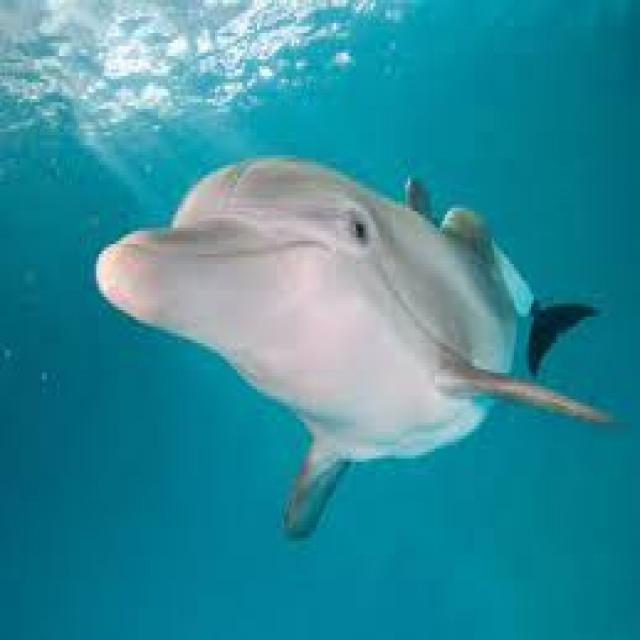dolphin: (74, 79, 623, 508)
